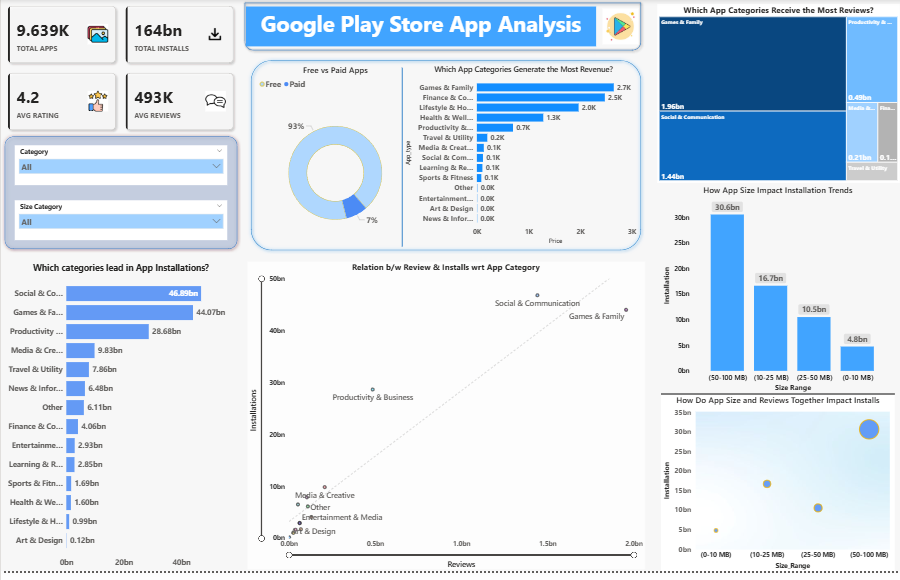

Layout of this report page (visuals, bound fields, positions):
{"tool":"powerbi","page":{"name":"dashboard","canvas":[2200,1400],"ordinal":0},"visuals":[{"type":"cardVisual","fields":{"Data":["Count(Og_table.App)","Sum(Og_table.Installation)","Avg(Og_table.Rating)","Avg(Og_table.Reviews)"]},"box":[0,0,587.3,339.5],"z":0},{"type":"donutChart","title":"Free vs Paid Apps","fields":{"Category":["Og_table.Type"],"Y":["CountNonNull(Og_table.Type)"]},"box":[627.1,159.1,382.4,471.1],"z":1000},{"type":"clusteredBarChart","title":"Which categories lead in App Installations?","fields":{"Category":["Og_table.App_type"],"Y":["Sum(Og_table.Installation)"]},"box":[0,642.4,587.3,758.6],"z":2000},{"type":"clusteredBarChart","title":"Which App Categories Generate the Most Revenue?","fields":{"Category":["Og_table.App_type"],"Y":["Sum(Og_table.Price)"]},"box":[981.9,159.1,593.4,446.6],"z":3000},{"type":"treemap","title":"Which App Categories Receive the Most Reviews?","fields":{"Group":["Og_table.App_type"],"Values":["Sum(Og_table.Reviews)"]},"box":[1606,12.2,593.4,437.4],"z":4000},{"type":"columnChart","title":"How App Size Impact Installation Trends","fields":{"Category":["Og_table.Size_Range"],"Y":["Sum(Og_table.Installation)"]},"box":[1615.2,452.7,572,513.9],"z":5000},{"type":"scatterChart","title":"How Do App Size and Reviews Together Impact Installs","fields":{"X":["Og_table.Size_Range"],"Y":["Sum(Og_table.Installation)"],"Size":["Avg(Og_table.Reviews)"]},"box":[1615.2,966.6,572,434.4],"z":6000},{"type":"scatterChart","title":"Relation b/w Review & Installs wrt App Category","fields":{"X":["Sum(Og_table.Reviews)"],"Y":["Sum(Og_table.Installation)"],"Series":["Og_table.App_type"]},"box":[602.6,642.4,972.8,752.5],"z":7000},{"type":"shape","box":[602.6,140.7,972.8,483.3],"z":8000},{"type":"shape","box":[688.3,168.2,587.3,437.4],"z":9000},{"type":"shape","box":[0,327.3,587.3,293.7],"z":10000},{"type":"slicer","fields":{"Values":["Og_table.App_type"]},"box":[33.6,357.9,520,97.9],"z":11000},{"type":"slicer","fields":{"Values":["Og_table.Size_Category"]},"box":[33.6,492.5,520,97.9],"z":12000},{"type":"shape","box":[587.3,0,988.1,134.6],"z":13000},{"type":"textbox","box":[599.6,18.4,856.5,97.9],"z":14000},{"type":"image","box":[1456.1,18.4,119.3,97.9],"z":15000},{"type":"shape","box":[1615.2,816.8,572,299.8],"z":16000}]}

Visuals, with their boxes in screenshot pixels (x1, y1, x2, y2), scaled from the page's 2200x1400 canvas onto the 900x580 screenshot:
cardVisual - Count(Og_table.App) x Sum(Og_table.Installation): (left=0, top=0, right=240, bottom=141)
"Free vs Paid Apps" donutChart: (left=257, top=66, right=413, bottom=261)
"Which categories lead in App Installations?" clusteredBarChart: (left=0, top=266, right=240, bottom=579)
"Which App Categories Generate the Most Revenue?" clusteredBarChart: (left=402, top=66, right=644, bottom=251)
"Which App Categories Receive the Most Reviews?" treemap: (left=657, top=5, right=899, bottom=186)
"How App Size Impact Installation Trends" columnChart: (left=661, top=188, right=895, bottom=400)
"How Do App Size and Reviews Together Impact Installs" scatterChart: (left=661, top=400, right=895, bottom=579)
"Relation b/w Review & Installs wrt App Category" scatterChart: (left=247, top=266, right=644, bottom=578)
shape: (left=247, top=58, right=644, bottom=259)
shape: (left=282, top=70, right=522, bottom=251)
shape: (left=0, top=136, right=240, bottom=257)
slicer - Og_table.App_type: (left=14, top=148, right=226, bottom=189)
slicer - Og_table.Size_Category: (left=14, top=204, right=226, bottom=245)
shape: (left=240, top=0, right=644, bottom=56)
textbox: (left=245, top=8, right=596, bottom=48)
image: (left=596, top=8, right=644, bottom=48)
shape: (left=661, top=338, right=895, bottom=463)
